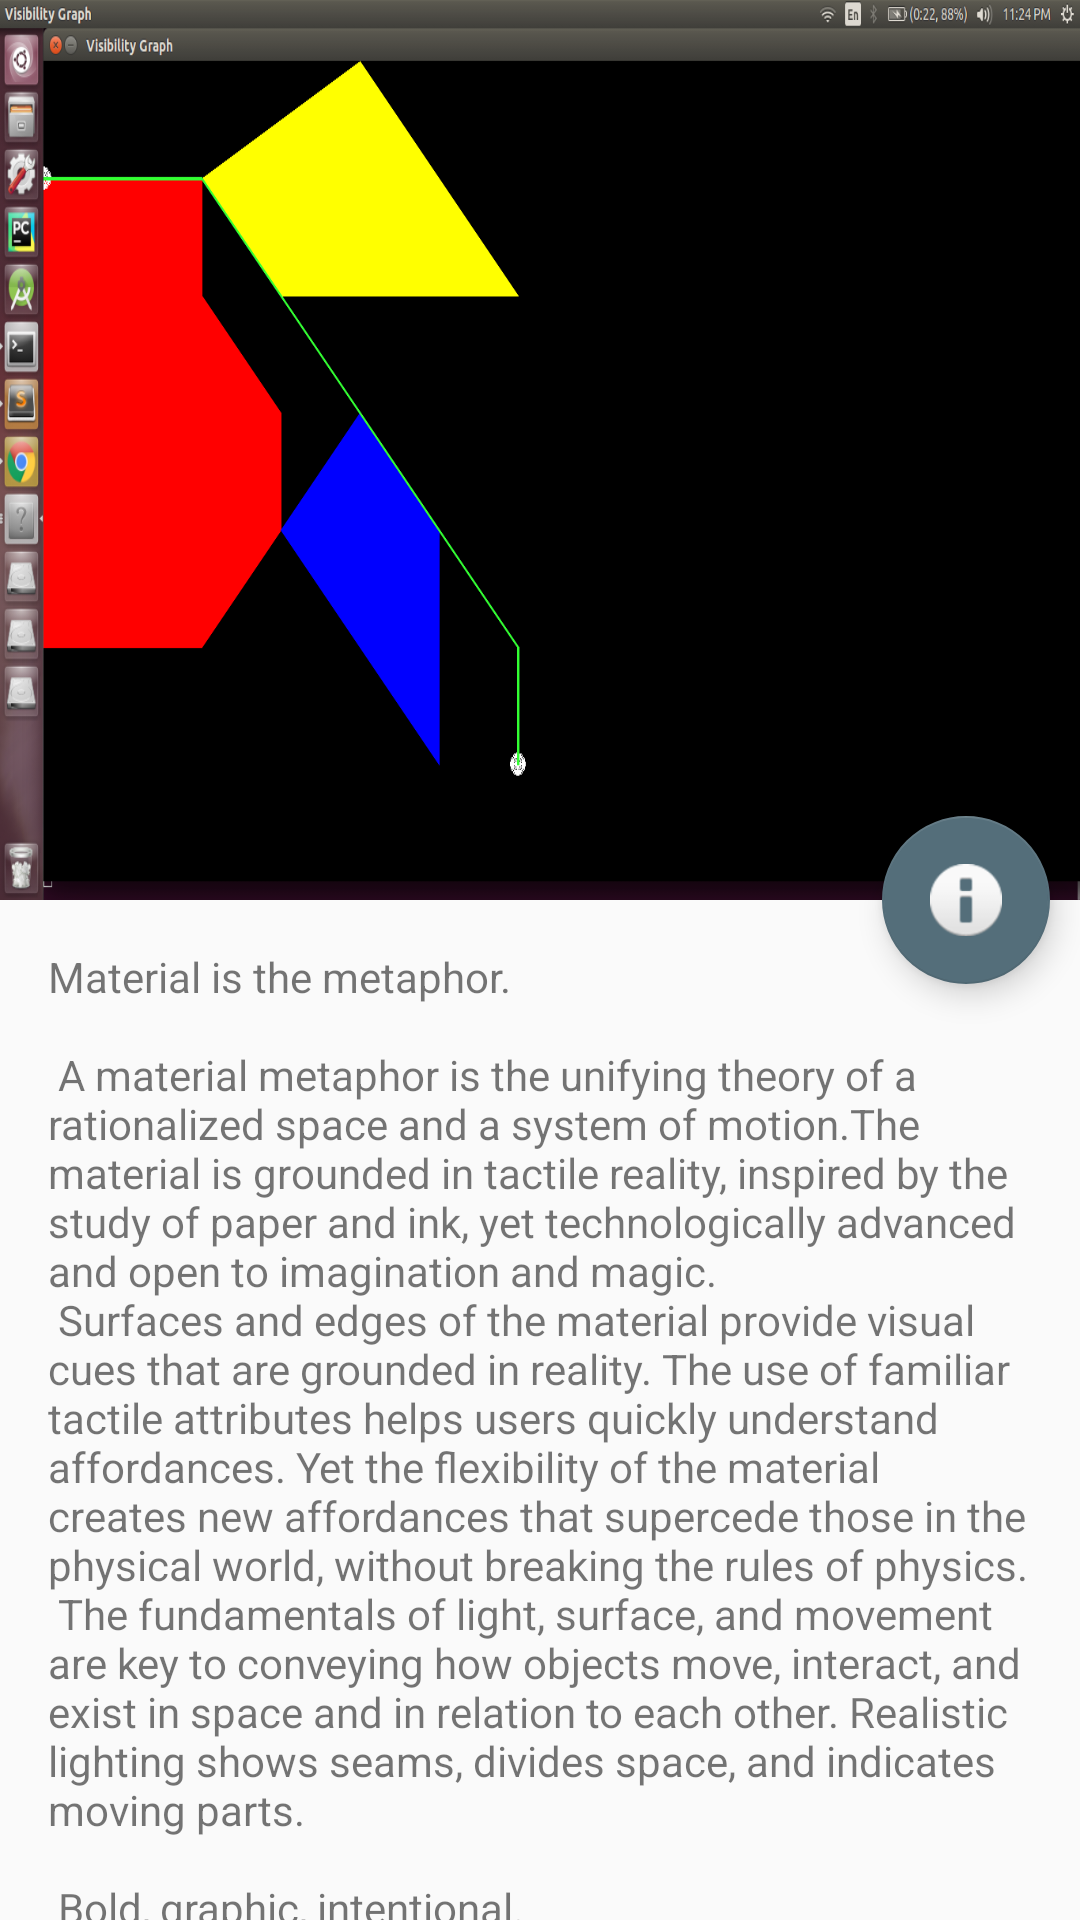

Point at icon controls on the screen. Image size 1080 × 1920, points as point (x, y).
info: point (966, 900)
